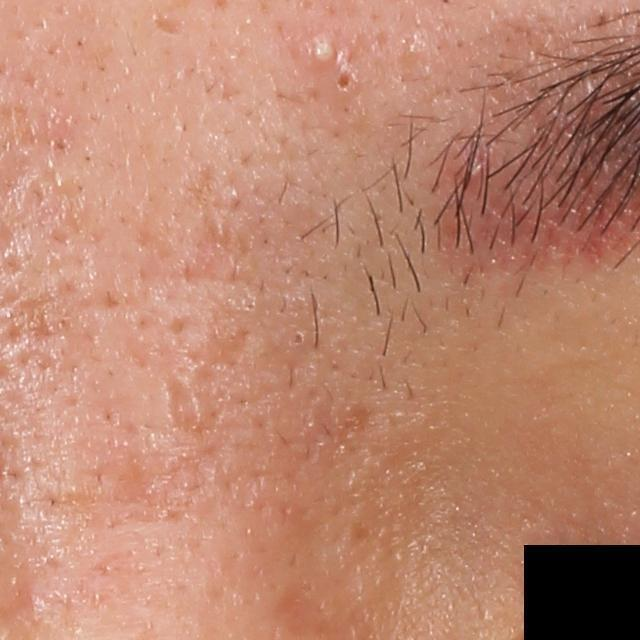atrophic_scar: (157, 164, 260, 314), (188, 306, 267, 392), (160, 368, 208, 439), (152, 13, 187, 37)
comedo: (333, 63, 365, 94), (290, 326, 314, 347)
pustule: (302, 30, 340, 68)
